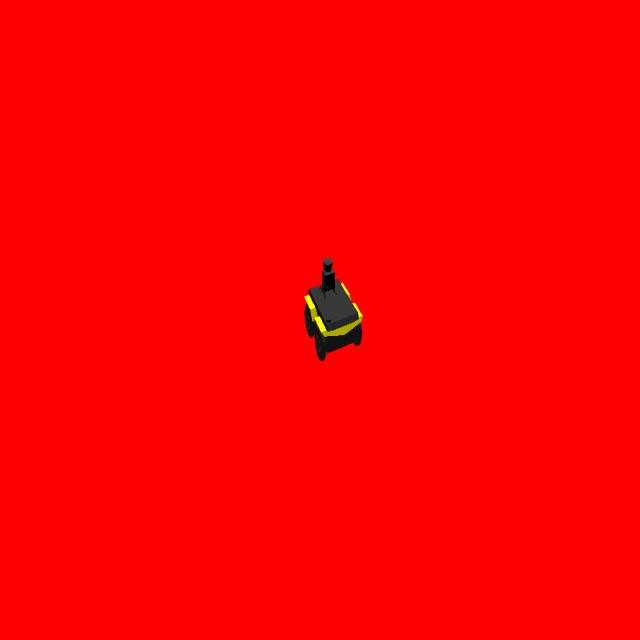jackal: (300, 254, 366, 364)
